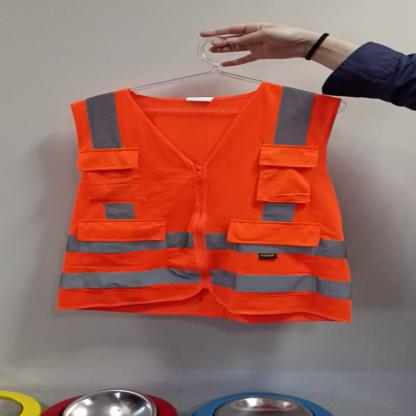colete: (50, 81, 356, 322)
